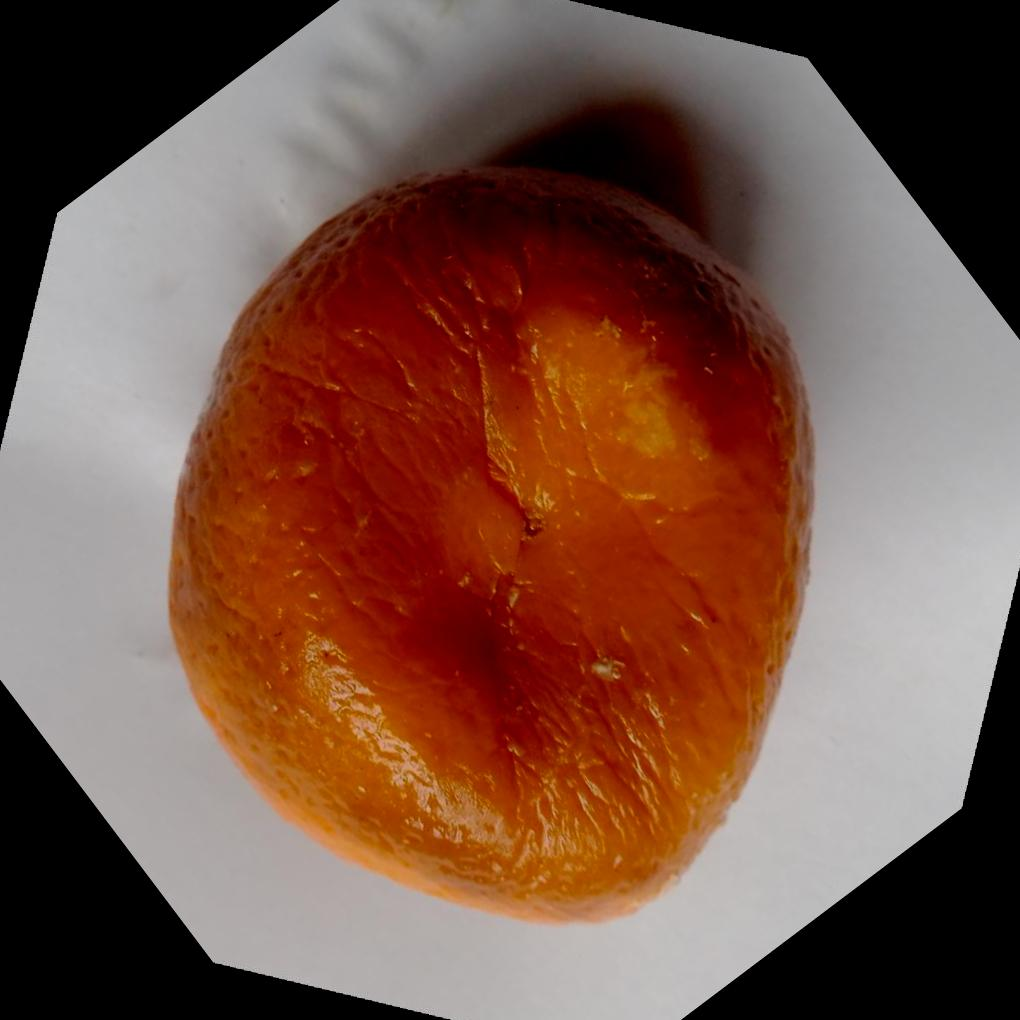FreshOrange: (160, 162, 815, 926)
